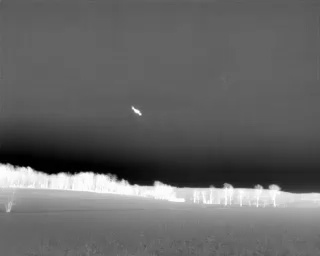DRONE: (128, 102, 145, 121)
